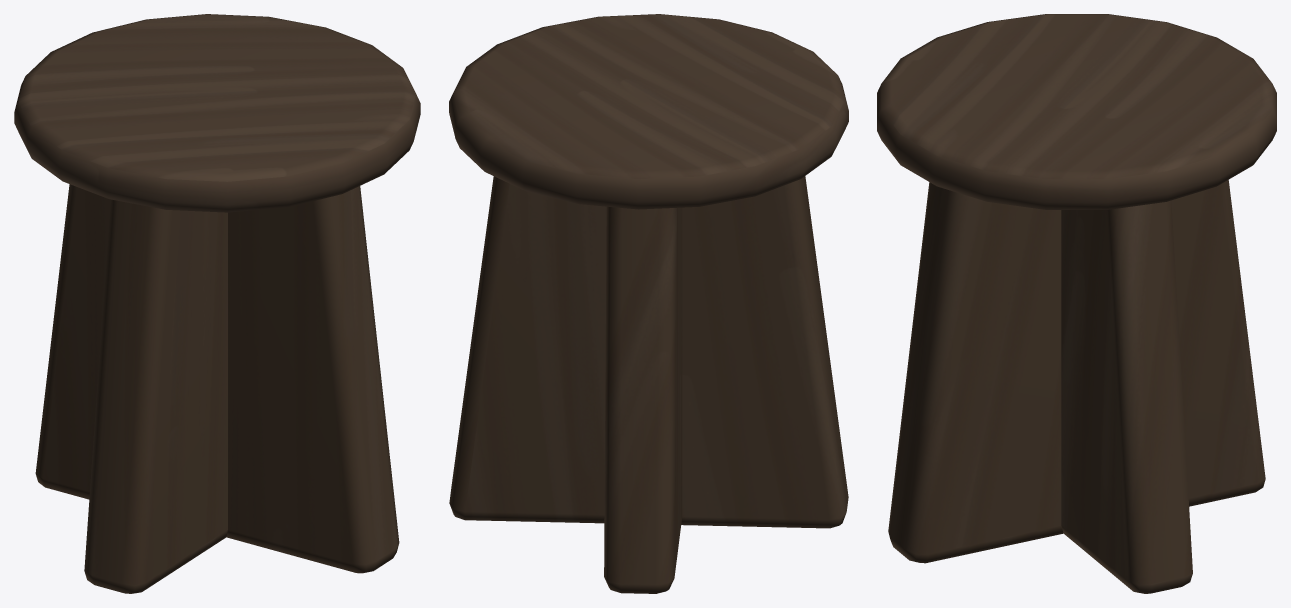
File: Chair.obj
The picture shows the model from 3 angles, left to right: view 1: azimuth 30°, elevation 25°; view 2: azimuth 150°, elevation 25°; view 3: azimuth 270°, elevation 25°; orthographic projection.
Visible parts, largest first — view 1: Chair_LegSG, Chair_TopSG; view 2: Chair_LegSG, Chair_TopSG; view 3: Chair_LegSG, Chair_TopSG.
Part boxes in pixels (x1,y1,x2,y2): Chair_LegSG: (35, 184, 399, 593); Chair_TopSG: (14, 14, 420, 212); Chair_LegSG: (449, 176, 848, 593); Chair_TopSG: (449, 14, 848, 209); Chair_LegSG: (888, 180, 1265, 593); Chair_TopSG: (877, 14, 1276, 209).
Bounding box in the file's own units: 2.22 × 2.62 × 2.22.
Materials: 2 (2 with a texture image).
